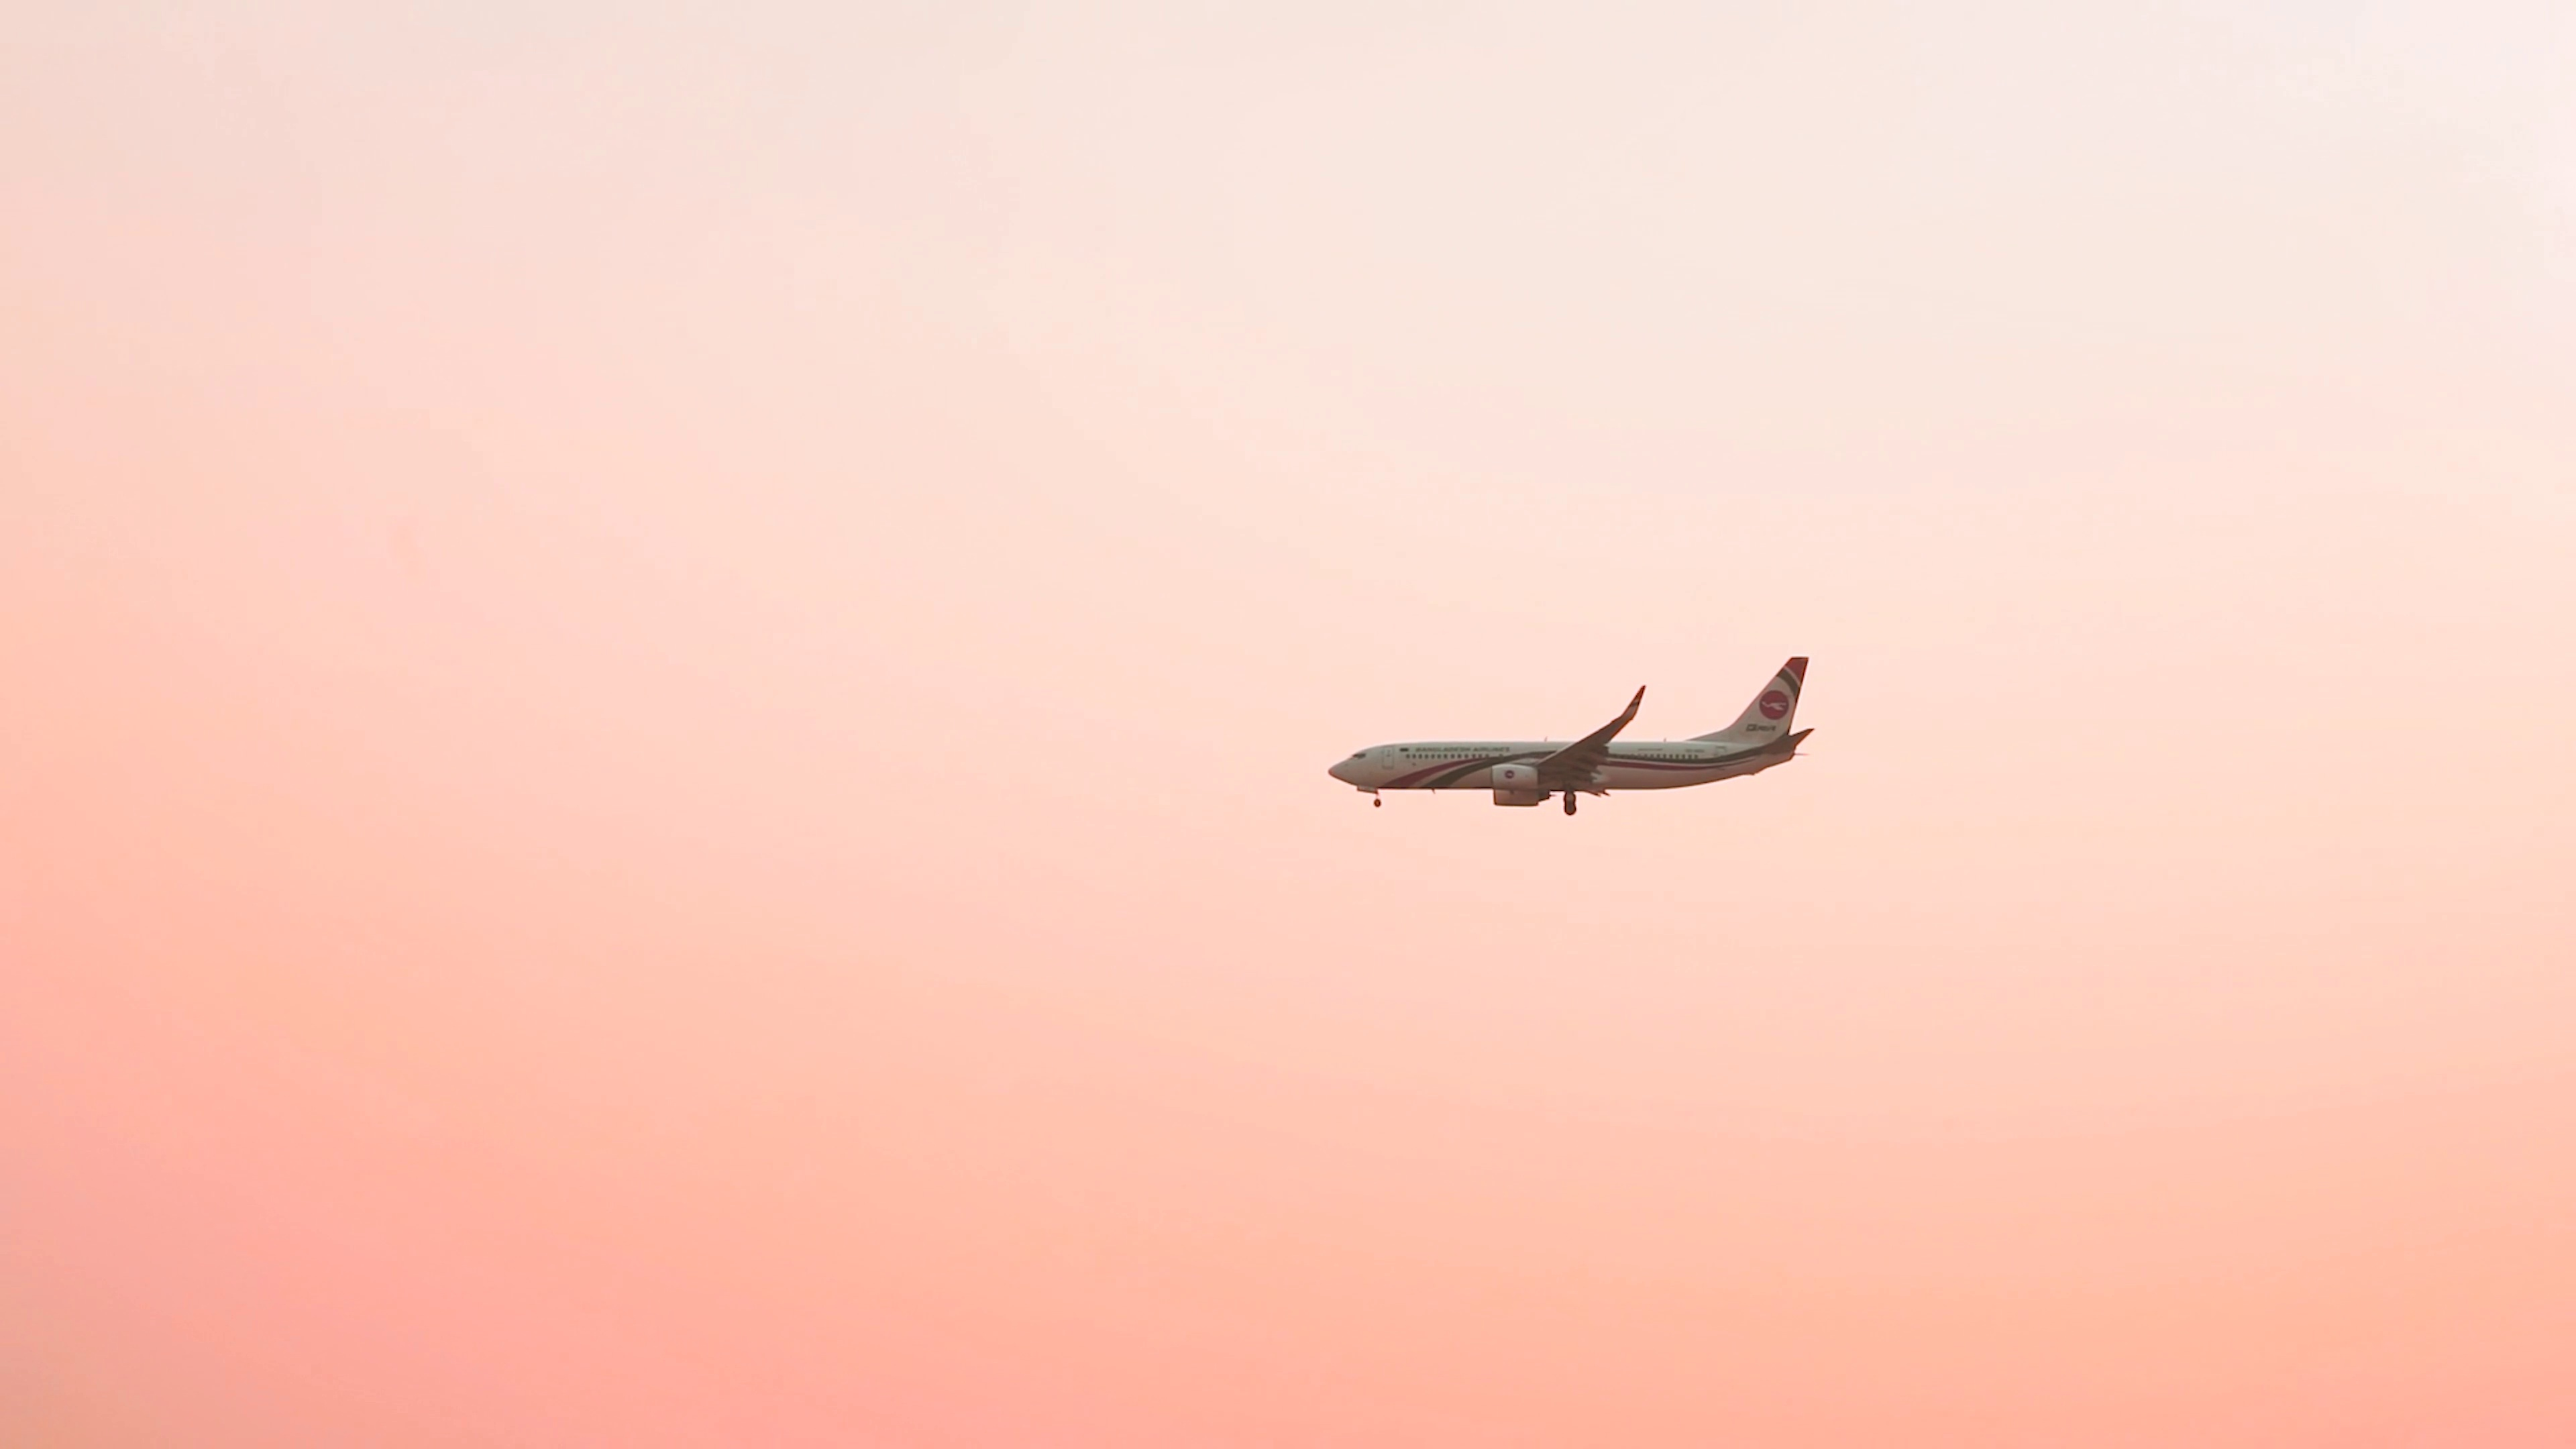plane: (1329, 656, 1813, 816)
